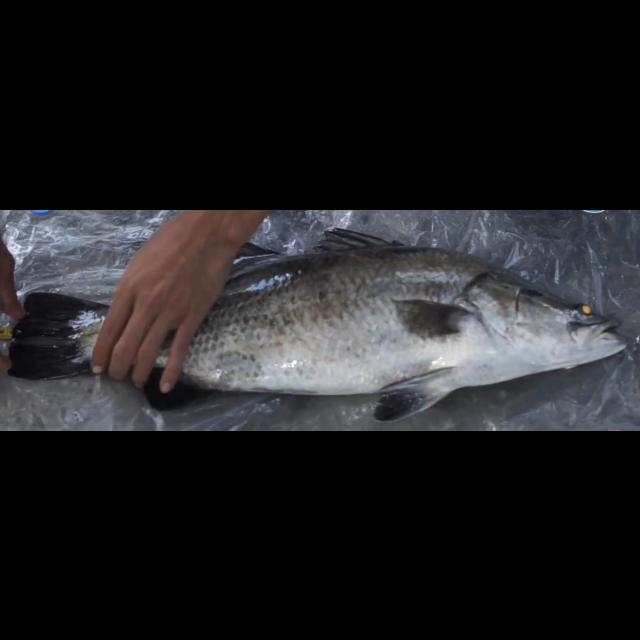Seabass: (8, 224, 626, 420)
